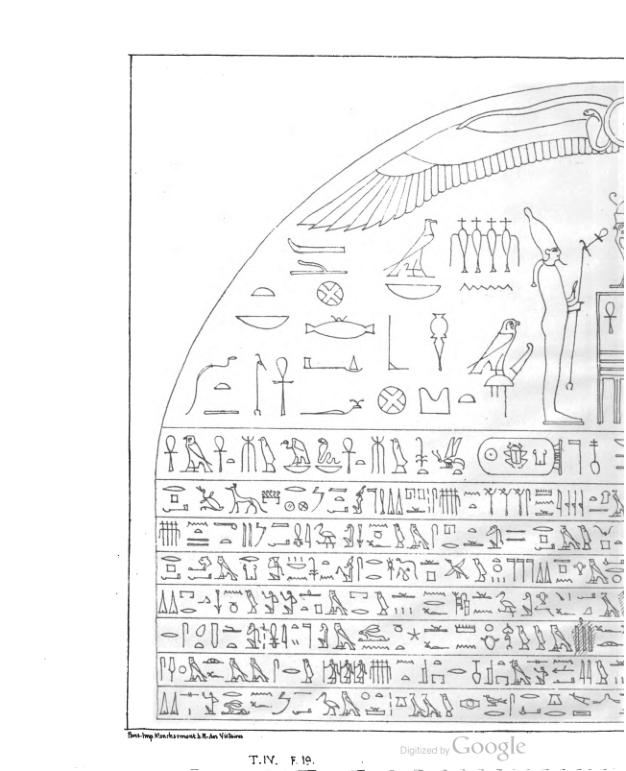circle: (476, 436, 567, 480)
